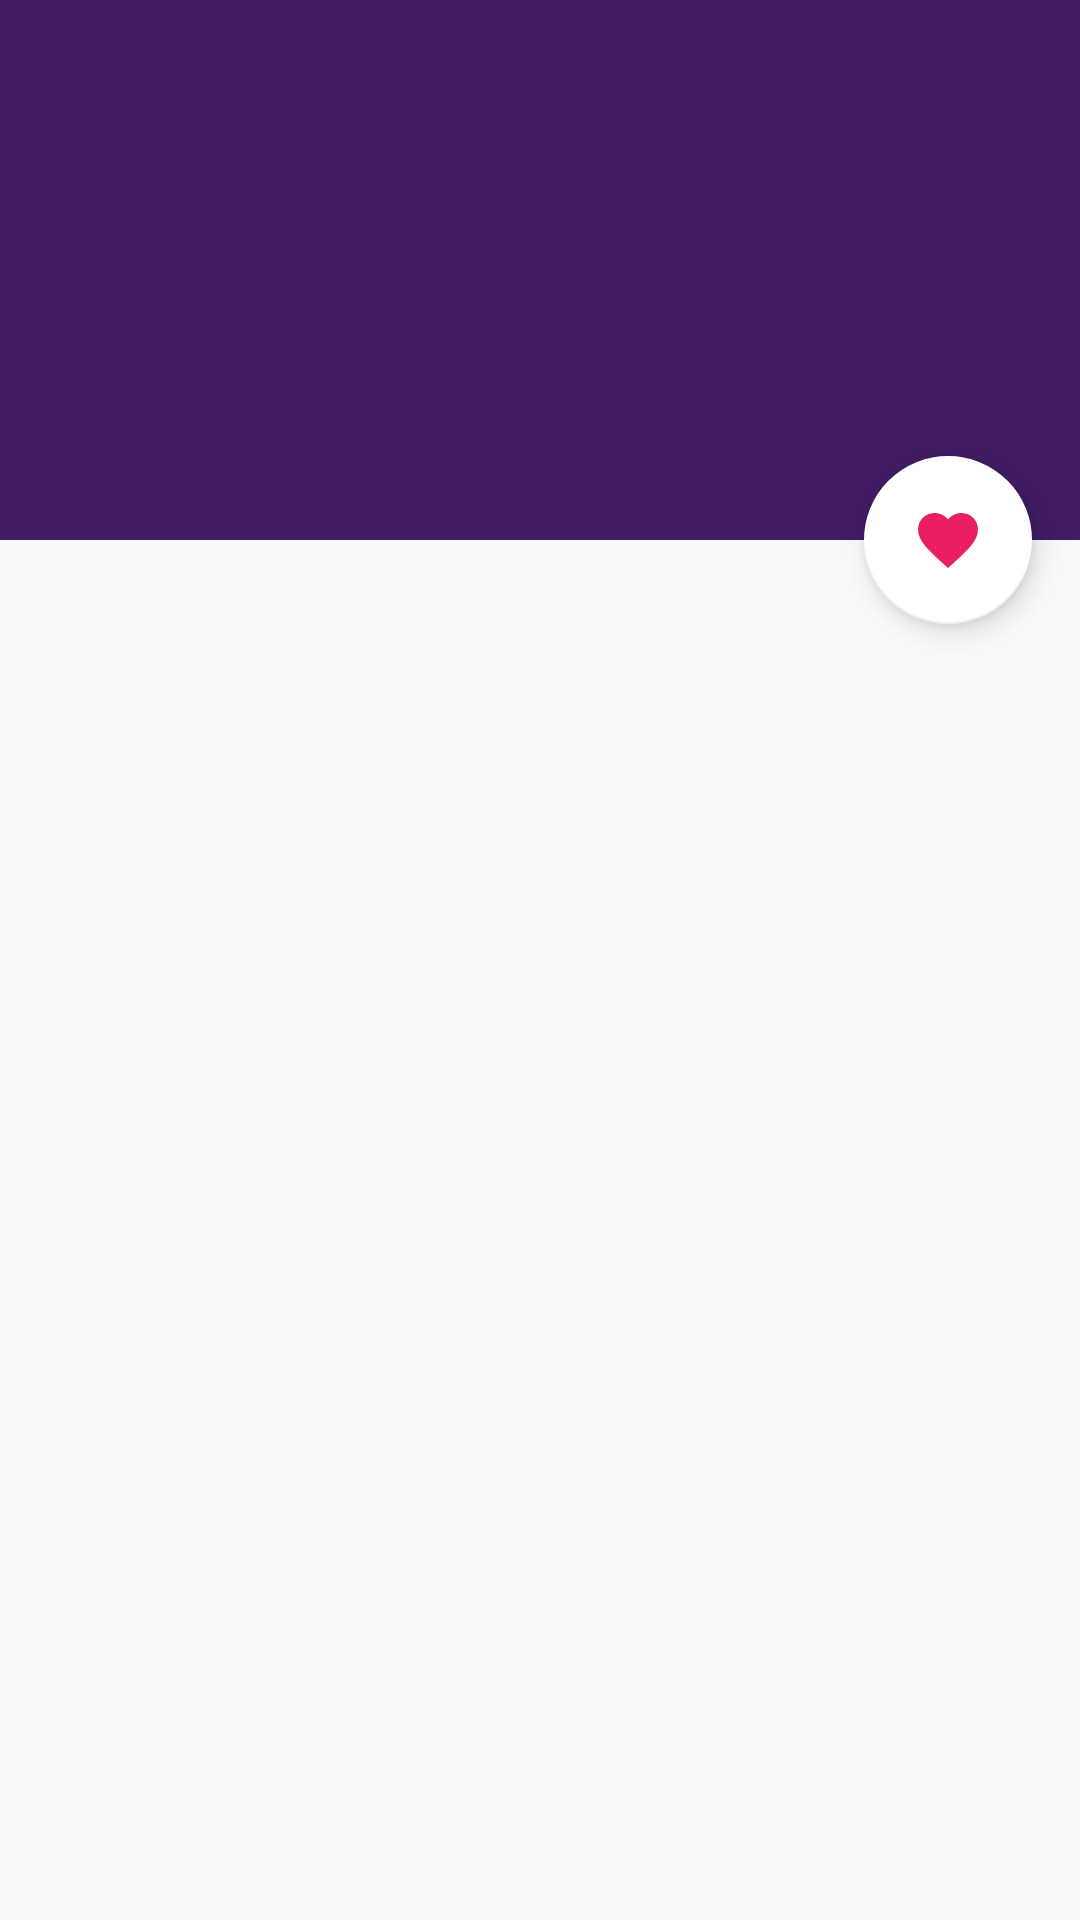

Icons on this 1080 x 1920 Android screen, each with the point to tap as (x=x, y=y):
favorite: (x=948, y=540)
